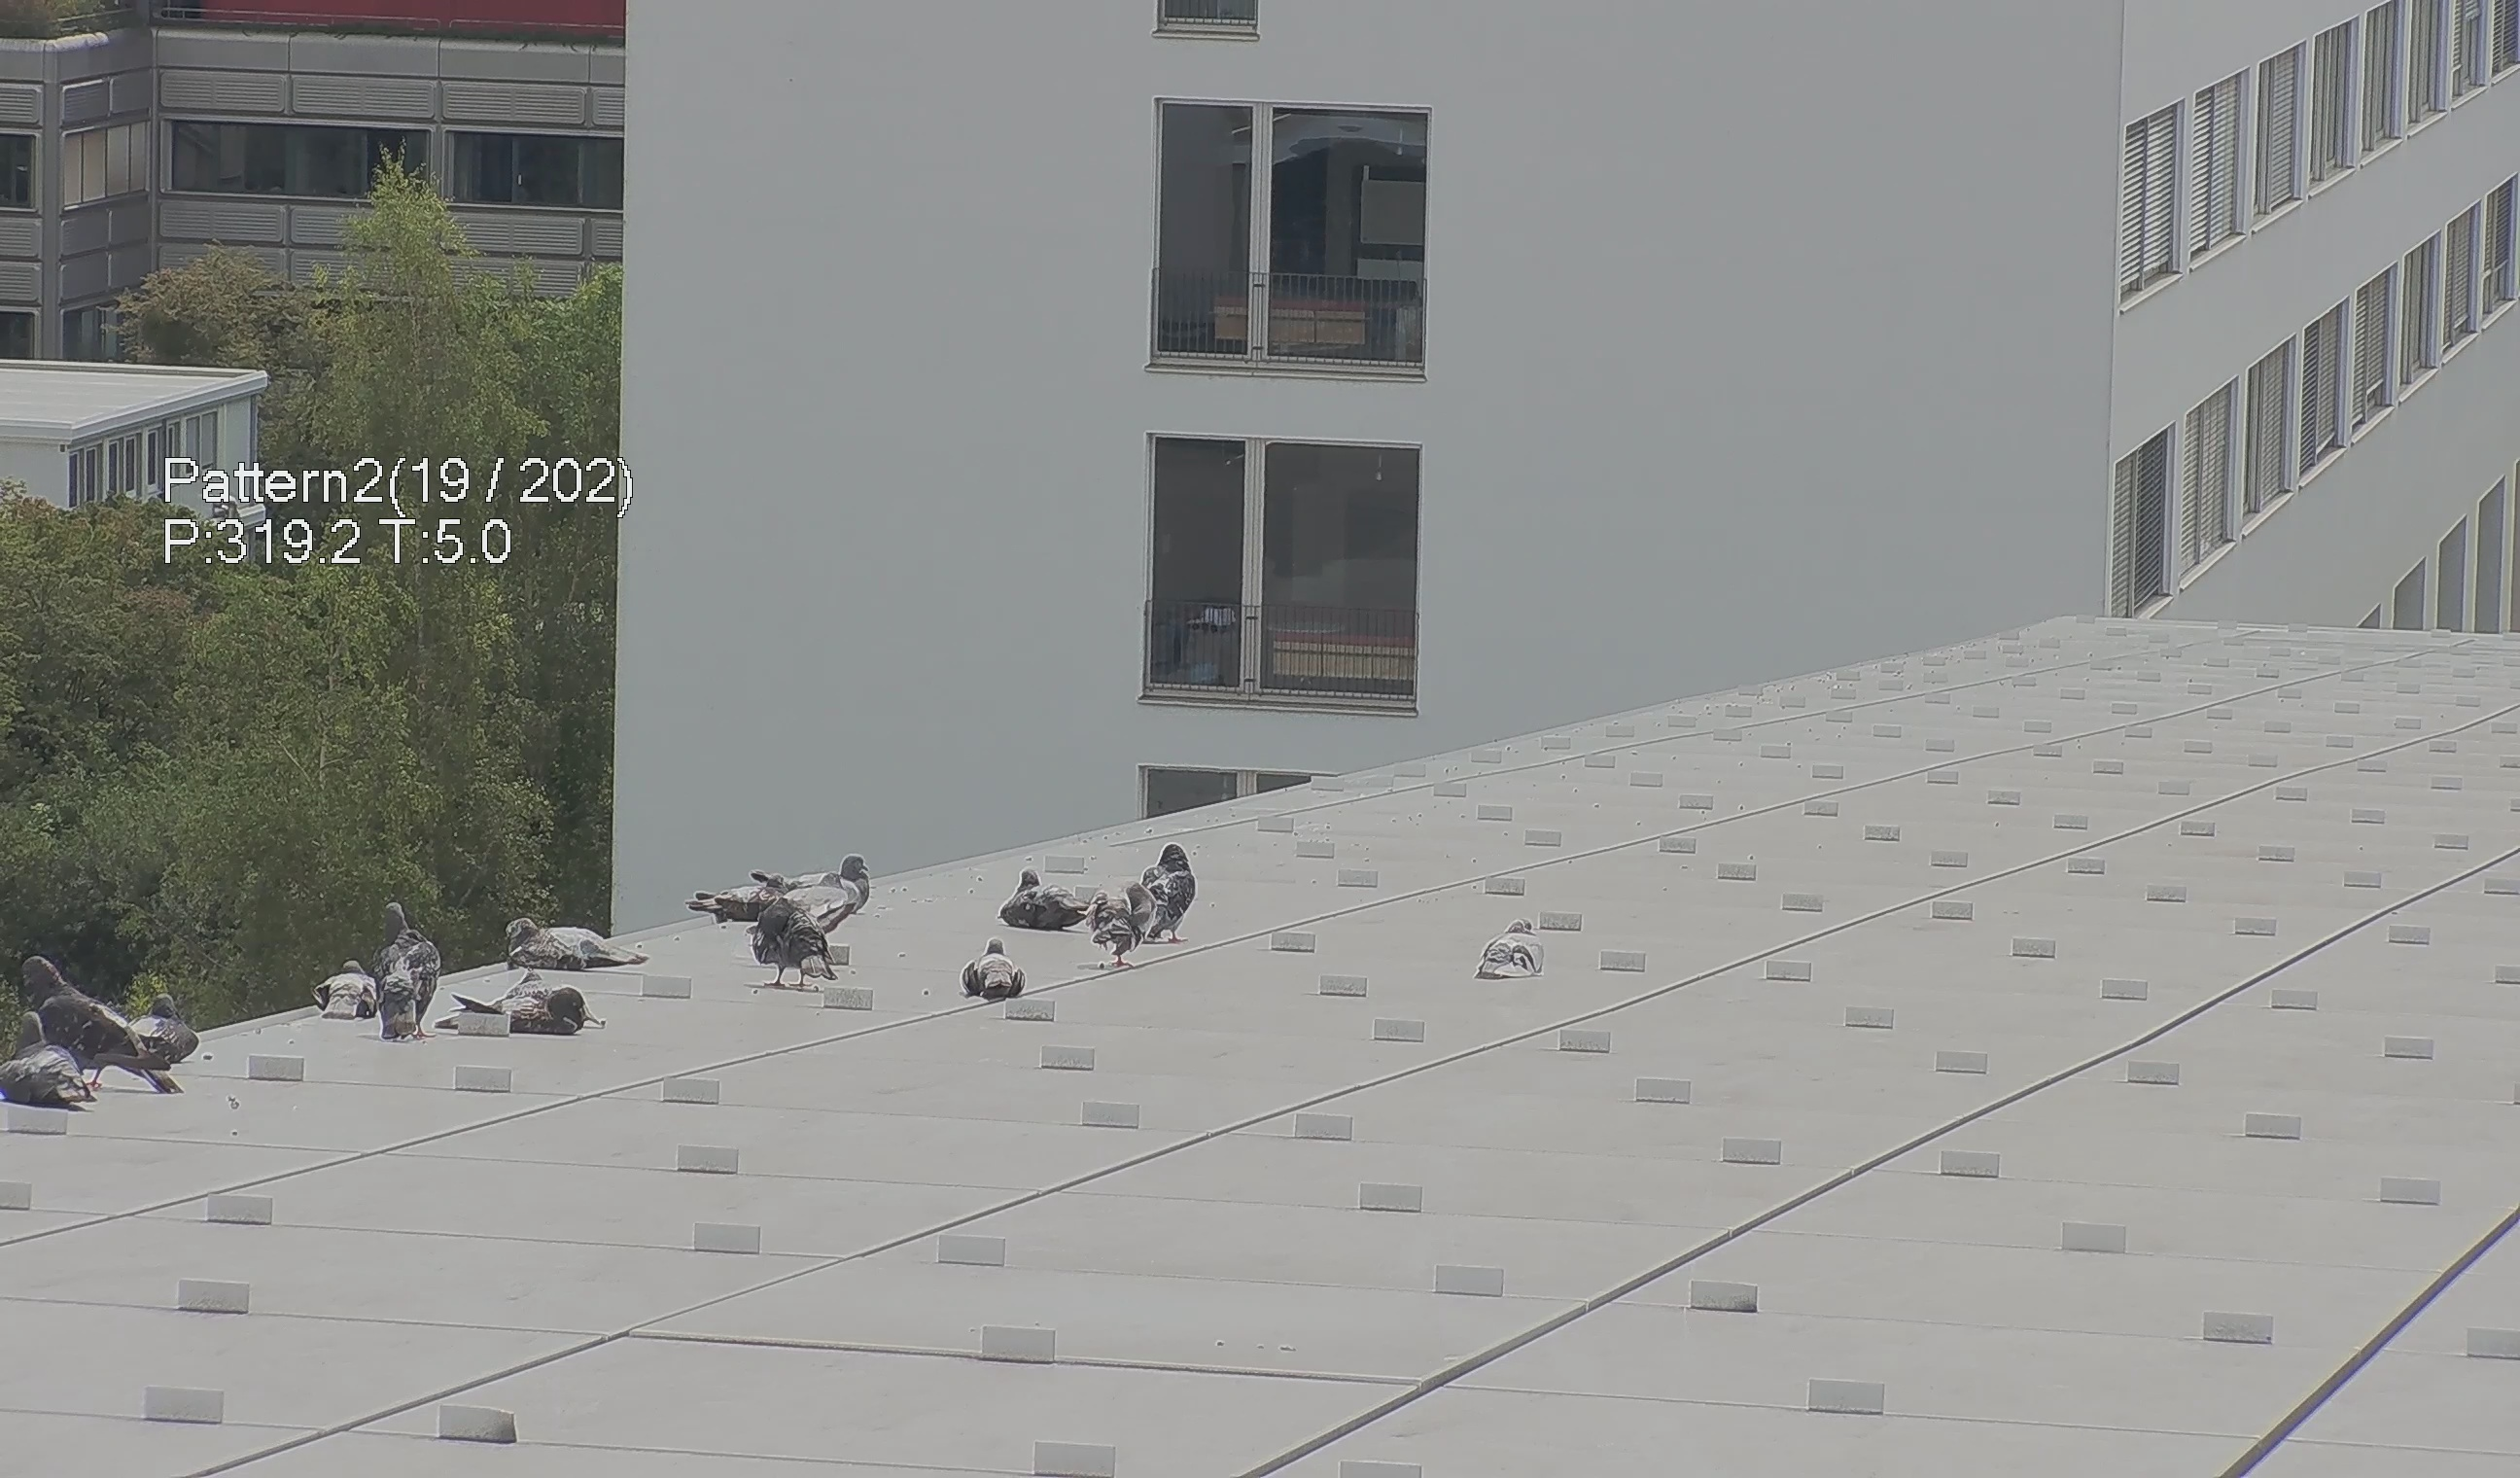Pigeon: (19, 947, 181, 1107), (733, 855, 844, 999), (438, 957, 601, 1047), (2, 1005, 104, 1128), (373, 896, 447, 1057), (485, 908, 647, 975), (978, 862, 1089, 938), (1129, 841, 1201, 954), (1080, 880, 1148, 991), (1467, 910, 1570, 980), (950, 933, 1032, 1005), (130, 994, 208, 1066), (301, 954, 375, 1022), (821, 848, 883, 913), (679, 874, 760, 920)
